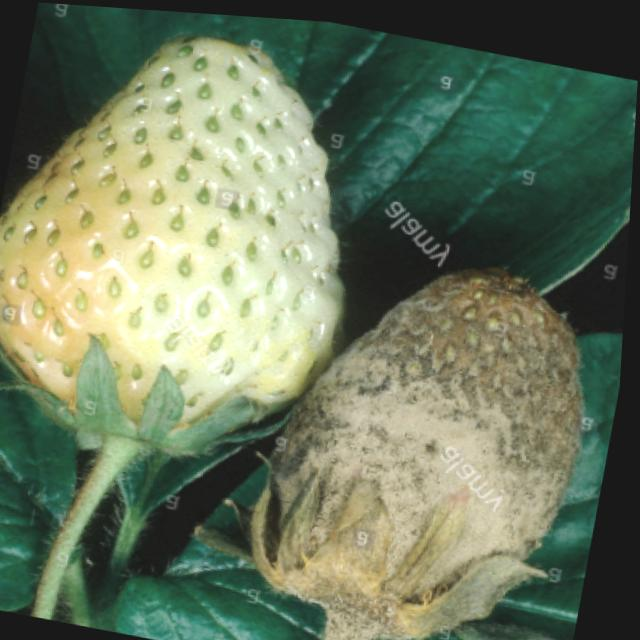Gray Mold: (253, 263, 590, 640)
